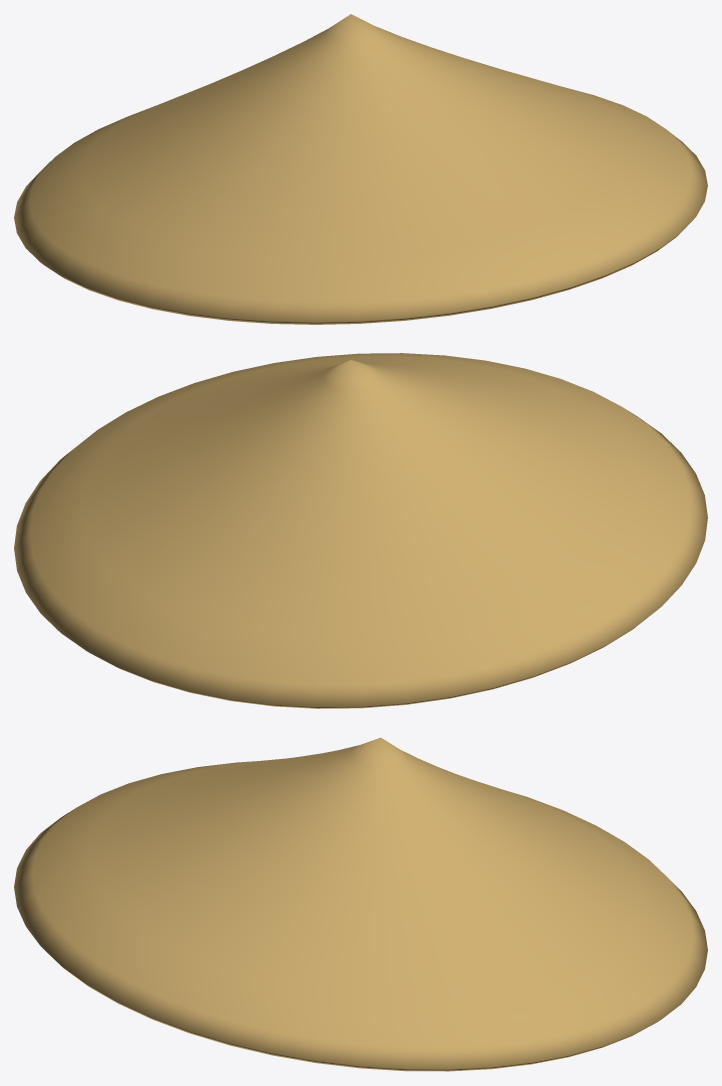
File: kasa.glb
3 renders of one model, top to bottom at view 1: azimuth 30°, elevation 25°; view 2: azimuth 150°, elevation 25°; view 3: azimuth 270°, elevation 25°, orthographic.
Parts seen in each view (by area): view 1: kasa; view 2: kasa; view 3: kasa.
Part boxes in pixels (x1=…): kasa: x1=14, y1=14, x2=707, y2=324; kasa: x1=14, y1=353, x2=707, y2=708; kasa: x1=14, y1=737, x2=707, y2=1071.
Bounding box in the file's own units: 0.5 × 0.1714 × 0.4975.
